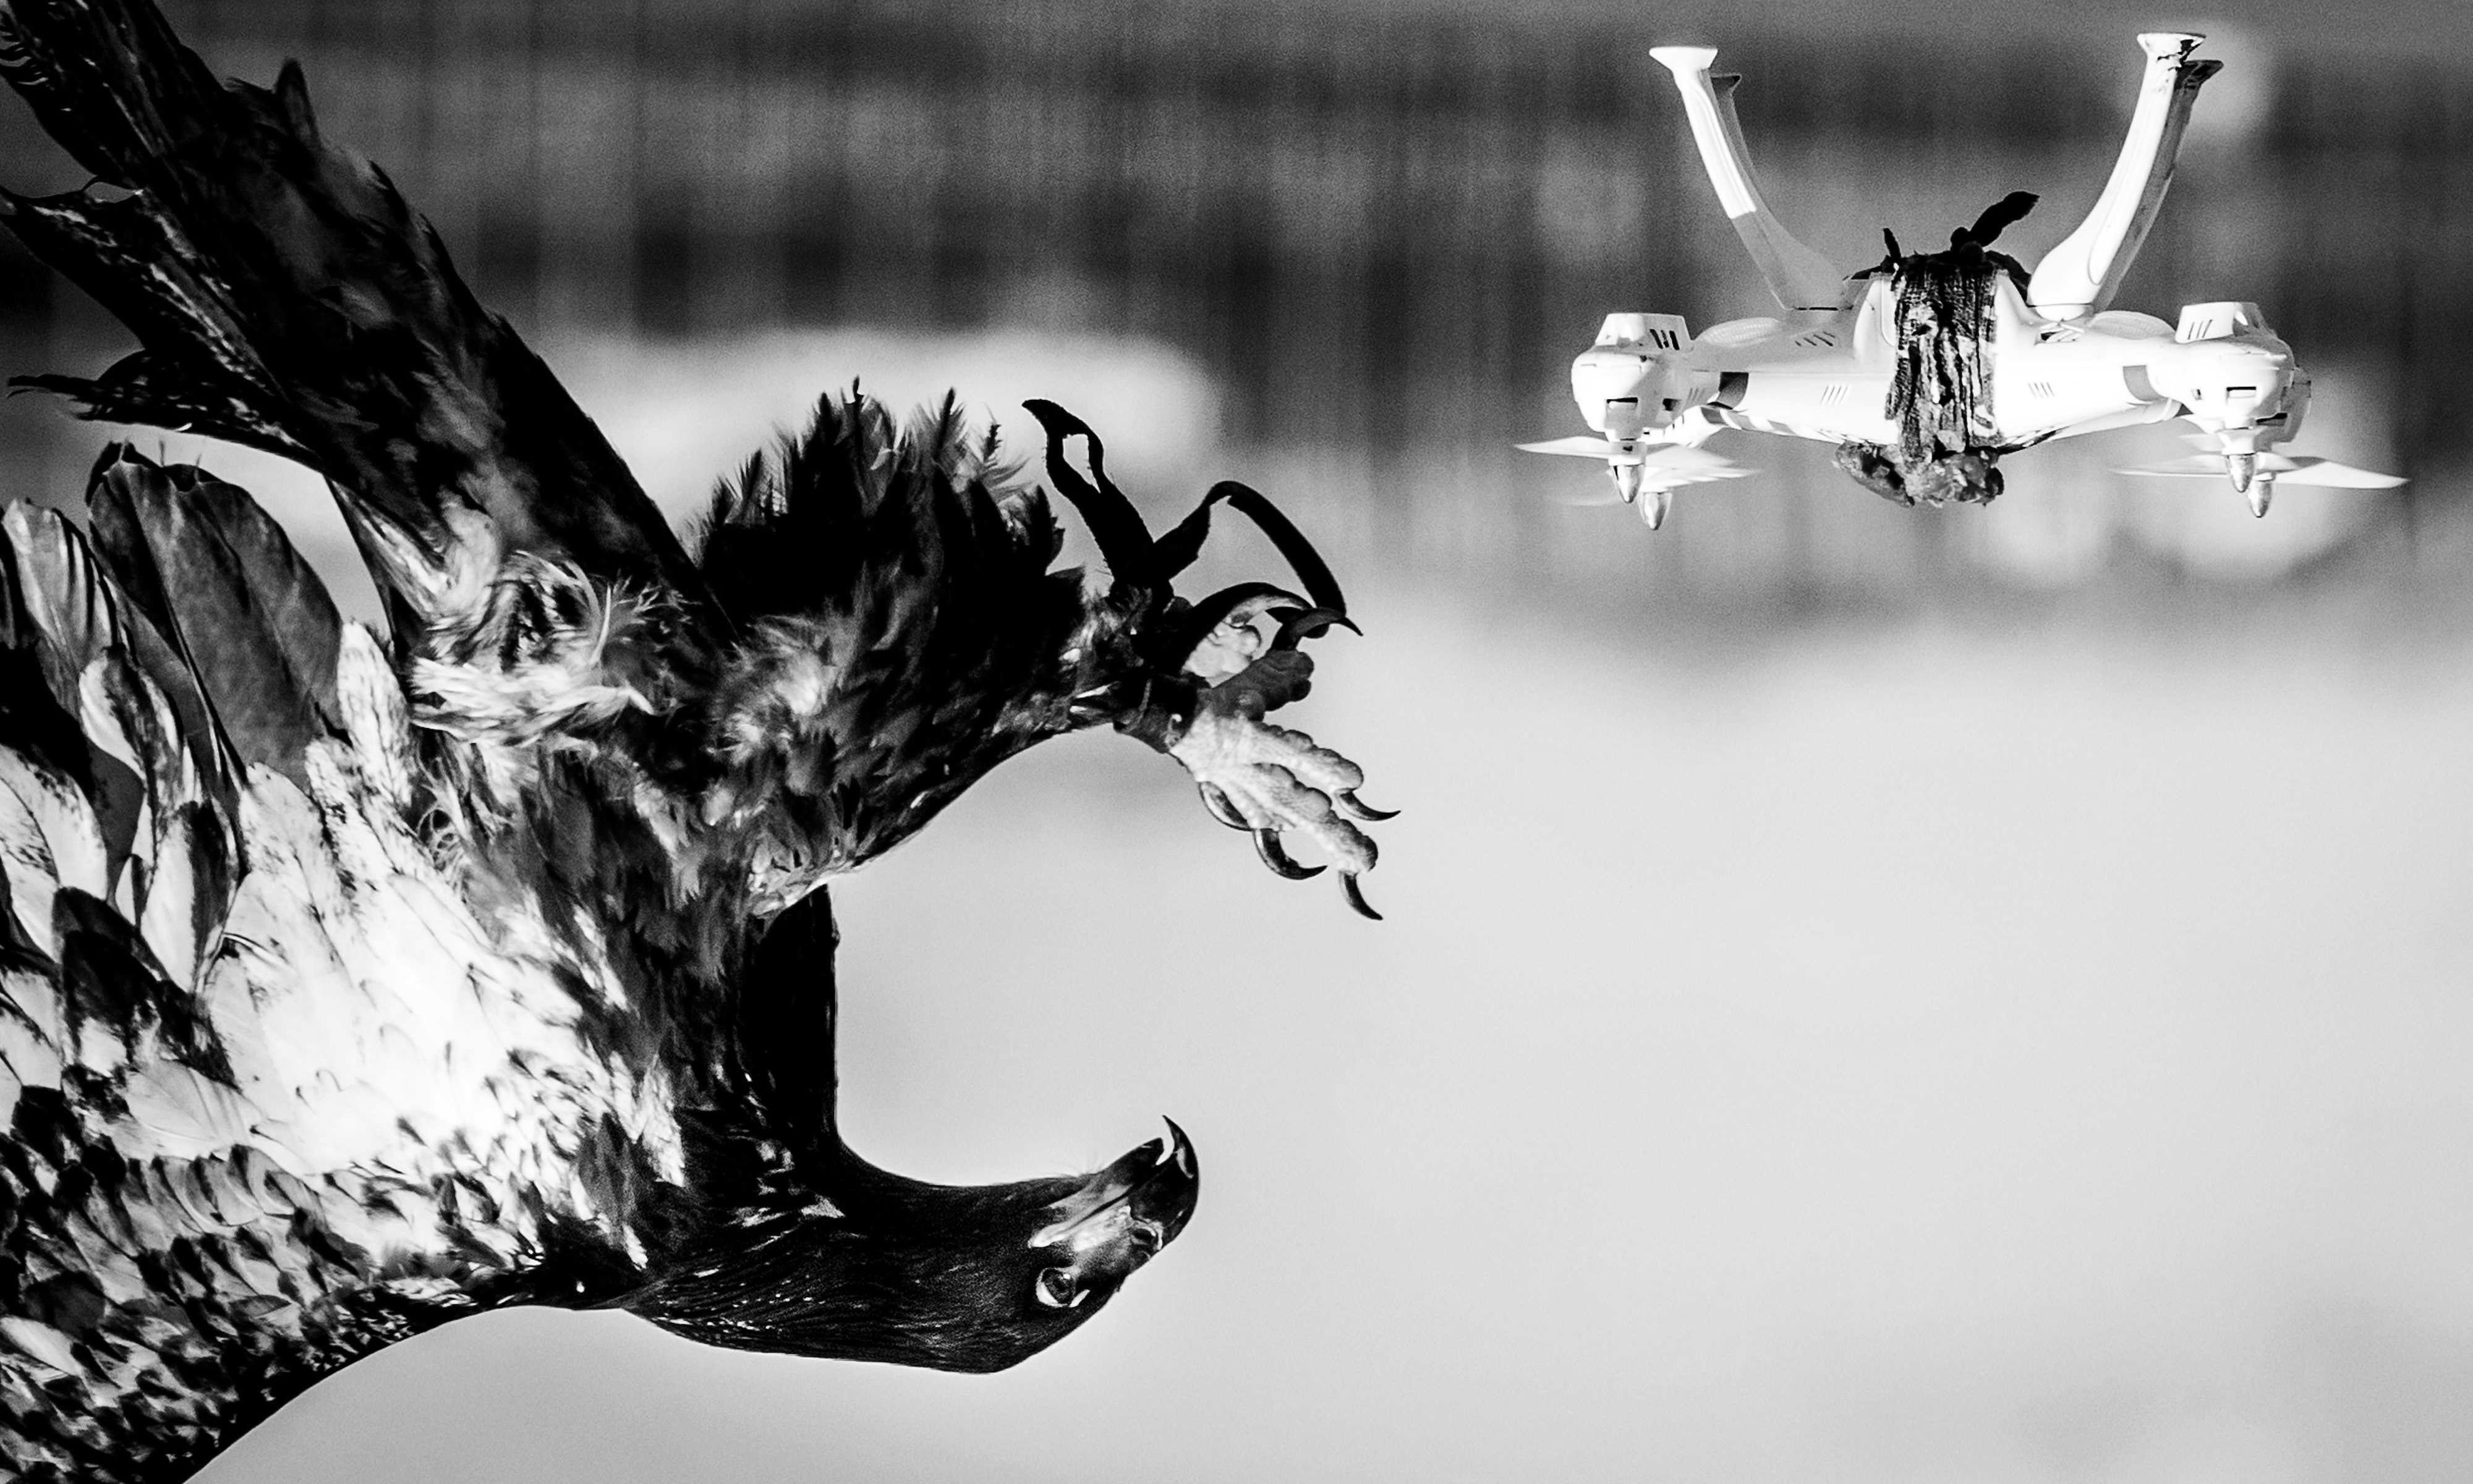Bird: (0, 0, 1395, 1479)
Drone: (1512, 25, 2424, 562)
